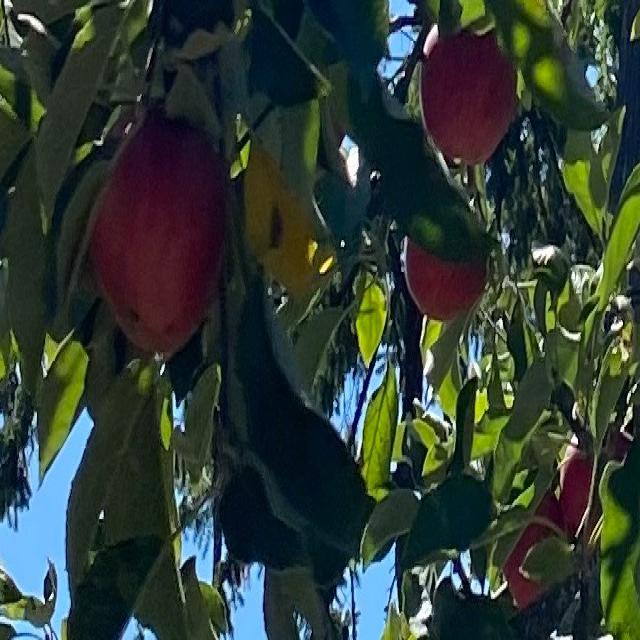Apples: (94, 119, 231, 357), (424, 25, 516, 162), (405, 214, 488, 318), (563, 428, 632, 537), (505, 491, 569, 606)
